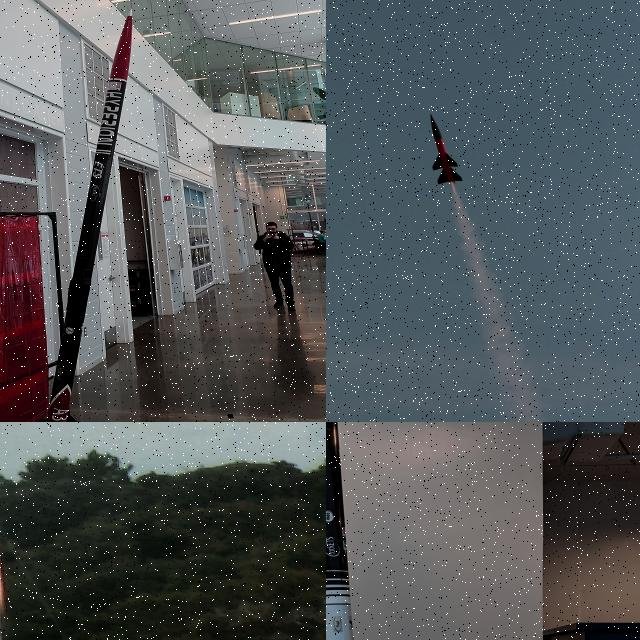Rocket: (46, 8, 132, 422), (326, 422, 354, 640), (429, 113, 464, 184)
